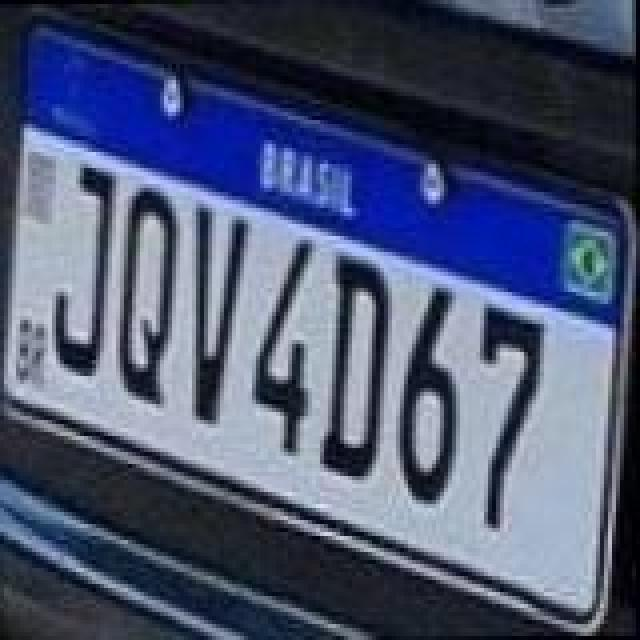4: (248, 240, 316, 456)
6: (398, 284, 466, 504)
7: (482, 308, 550, 532)
D: (314, 250, 394, 486)
J: (52, 158, 120, 378)
Q: (116, 182, 184, 414)
V: (190, 202, 254, 426)
